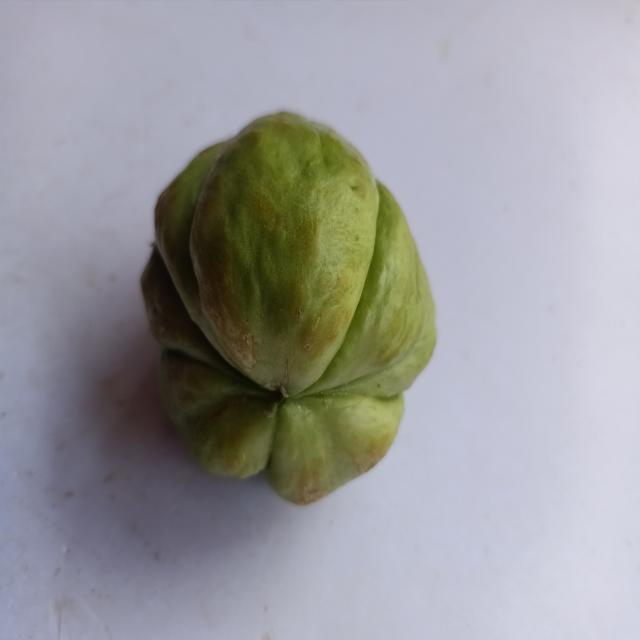Chayote: (132, 93, 448, 518)
